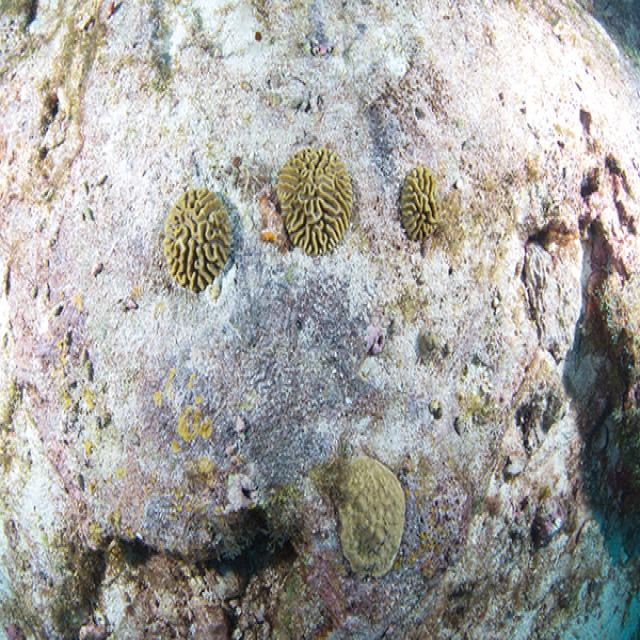Coral: (335, 454, 406, 579), (276, 147, 353, 257), (163, 187, 233, 293), (401, 165, 442, 240)
